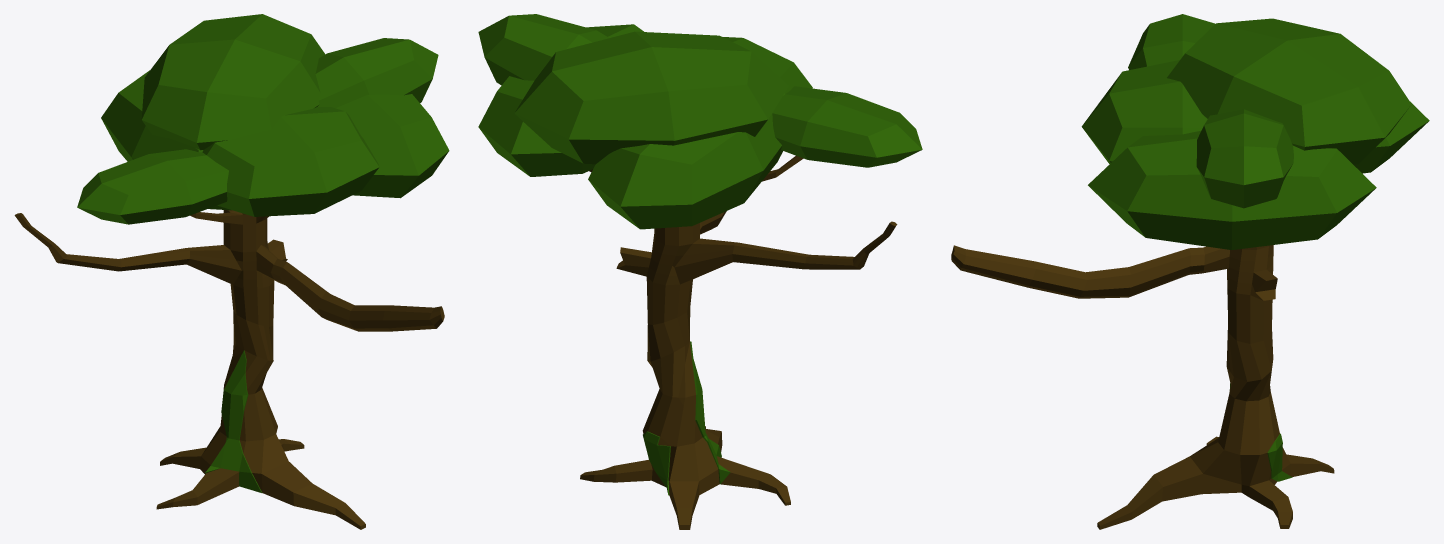
File: Lowpoly_Tree_Jungle_02.fbx
The picture shows the model from 3 angles, left to right: view 1: azimuth 30°, elevation 25°; view 2: azimuth 150°, elevation 25°; view 3: azimuth 270°, elevation 25°; orthographic projection. The views are drawn at different scales.
Parts seen in each view (by area): view 1: Cylinder.003; view 2: Cylinder.003; view 3: Cylinder.003.
Part boxes in pixels (left/top/right/bottom): Cylinder.003: left=14, top=14, right=449, bottom=529; Cylinder.003: left=478, top=14, right=922, bottom=529; Cylinder.003: left=951, top=14, right=1429, bottom=529.
Size of the model in its own units: 2867 by 2914 by 2709.
